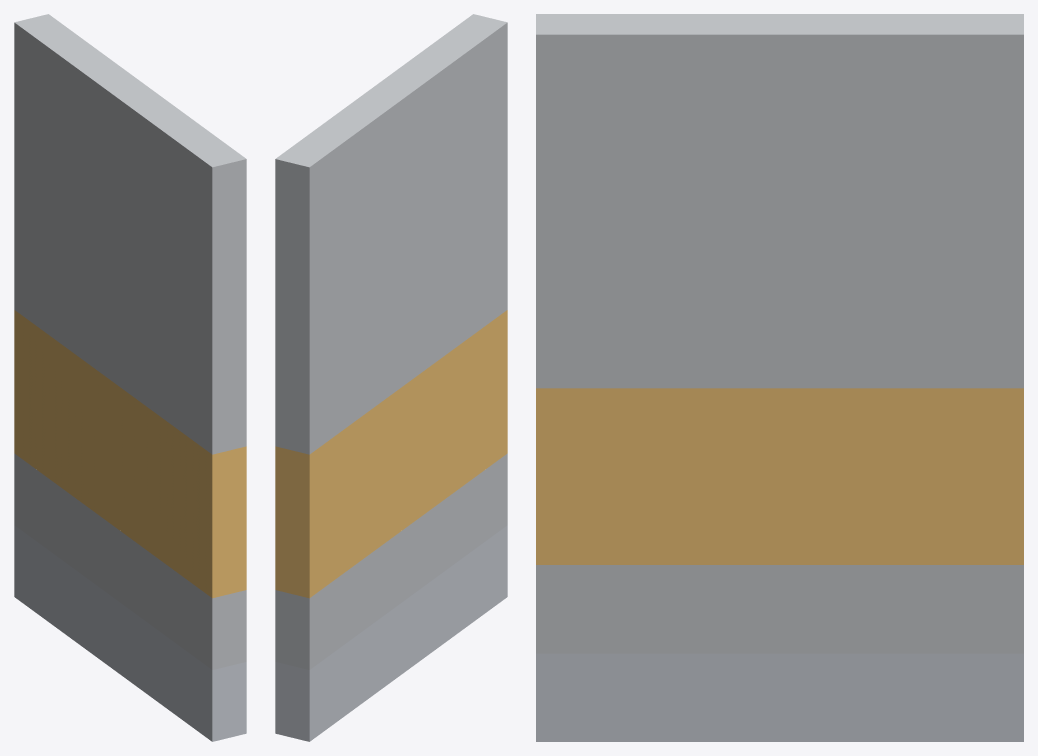
File: corridor_wall_big.gltf
3 renders of one model, left to right at view 1: azimuth 30°, elevation 25°; view 2: azimuth 150°, elevation 25°; view 3: azimuth 270°, elevation 25°, orthographic. The views are drawn at different scales.
Parts seen in each view (by area): view 1: corridor_wall; view 2: corridor_wall; view 3: corridor_wall.
Part boxes in pixels (box(x1,y1,x2,y2)): corridor_wall: box(14, 14, 246, 741); corridor_wall: box(275, 14, 507, 741); corridor_wall: box(536, 14, 1023, 741).
Size of the model in its own units: 0.1 by 1.6 by 1.
